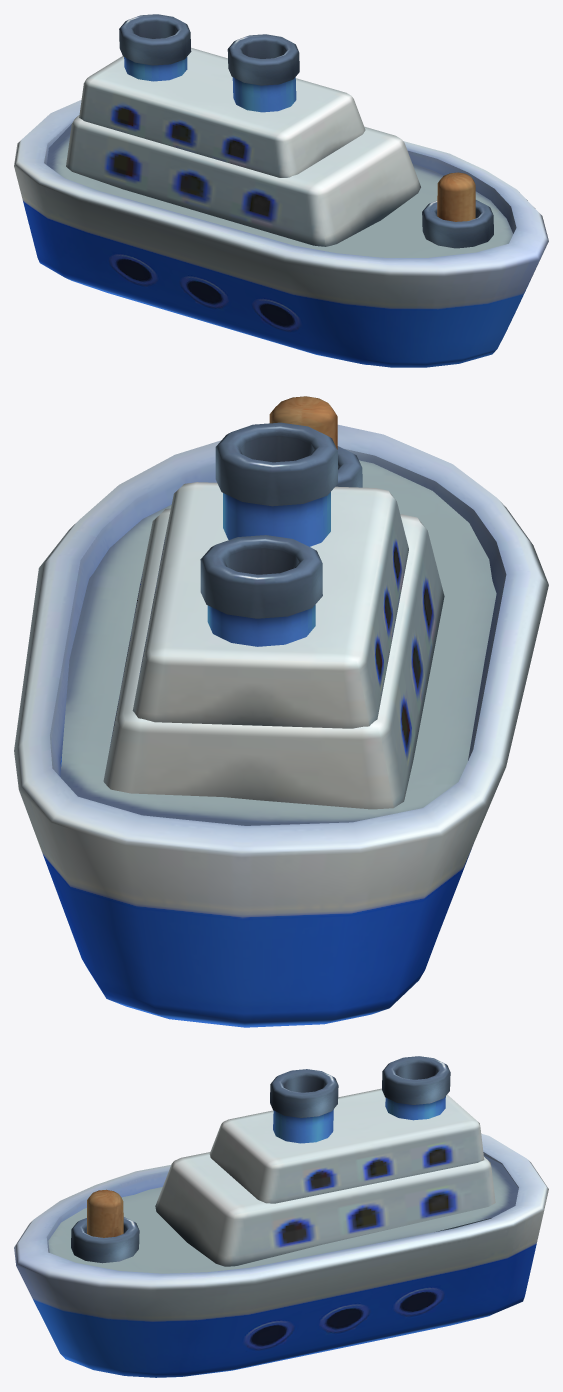
File: ship.fbx
3 views of the same model, one above another, from view 1: azimuth 30°, elevation 25°; view 2: azimuth 150°, elevation 25°; view 3: azimuth 270°, elevation 25° (orthographic). The views are drawn at different scales.
Parts seen in each view (by area): view 1: ship; view 2: ship; view 3: ship.
Boxes of the visible parts, x1,y1,x2,y2 form: ship: (14, 14, 548, 367); ship: (14, 396, 548, 1027); ship: (14, 1056, 548, 1377).
Bounding box in the file's own units: 59.1 × 39.03 × 81.54.
